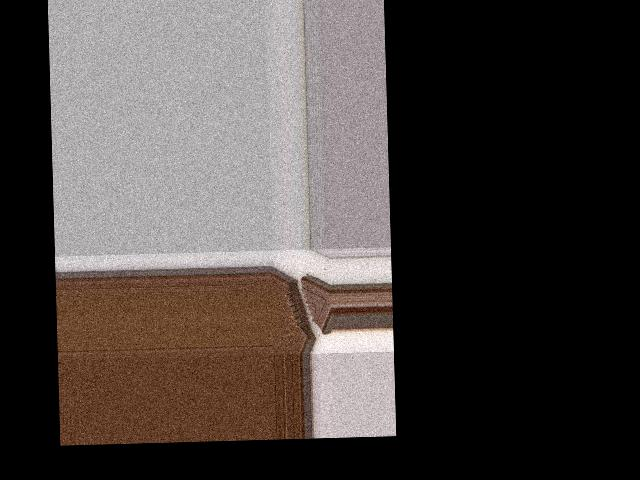chocolate: (272, 263, 332, 354)
